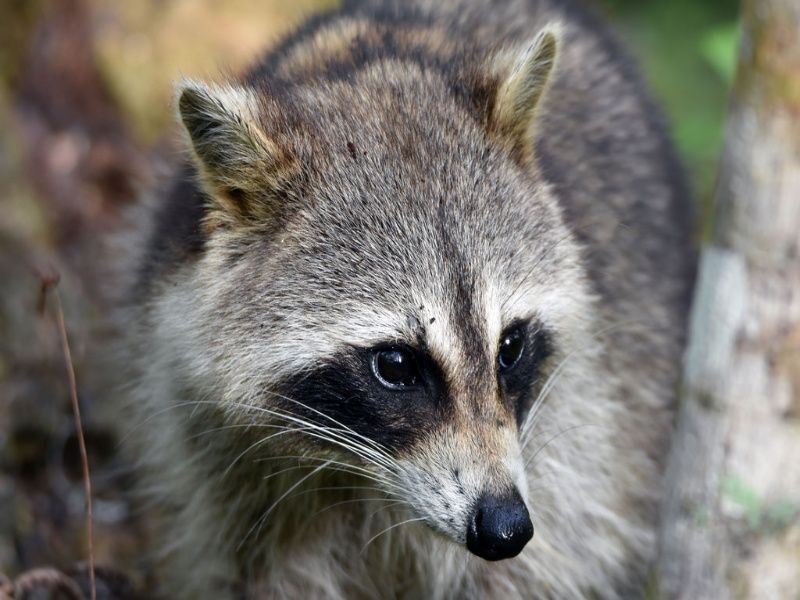raccoon: (113, 11, 707, 598)
